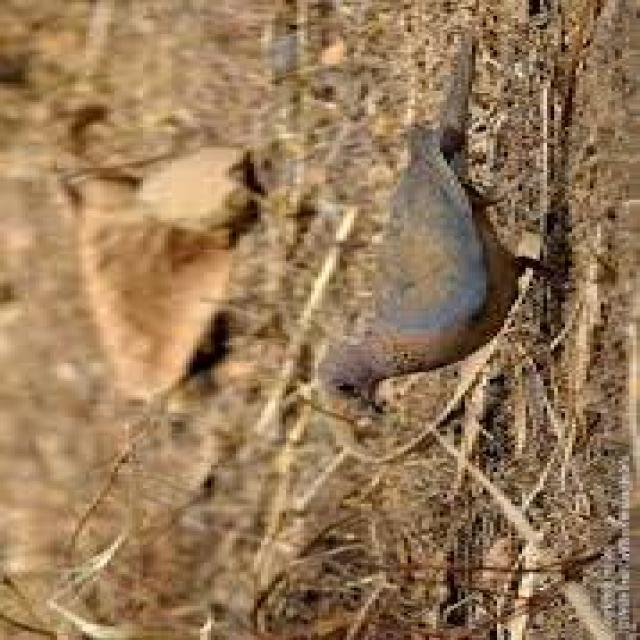pigeon: (293, 75, 579, 423)
